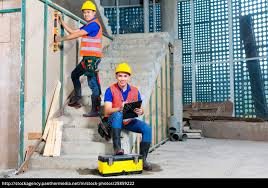helmet: (115, 62, 132, 75), (80, 1, 97, 11)
vest: (110, 86, 141, 120), (78, 20, 102, 56)
